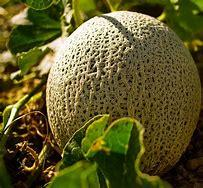Melon Ripe: (49, 12, 201, 168)
